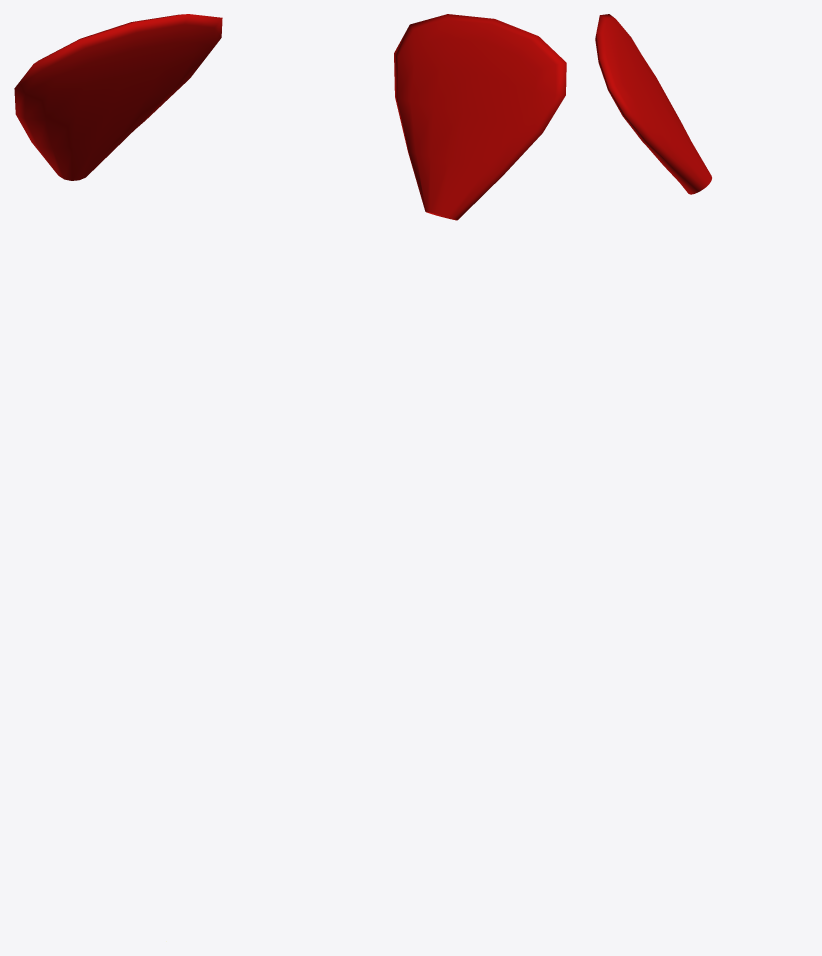
File: eyes_fish_yellow.glb
3 renders of one model, left to right at view 1: azimuth 30°, elevation 25°; view 2: azimuth 150°, elevation 25°; view 3: azimuth 270°, elevation 25°, orthographic. The views are drawn at different scales.
Parts seen in each view (by area): view 1: polySurface2.002; view 2: polySurface2.002; view 3: polySurface2.002.
Boxes of the visible parts, x1,y1,x2,y2 form: polySurface2.002: (14,14,222,180); polySurface2.002: (394,14,566,220); polySurface2.002: (595,14,711,194).
Bounding box in the file's own units: 75.15 × 285 × 64.91.
